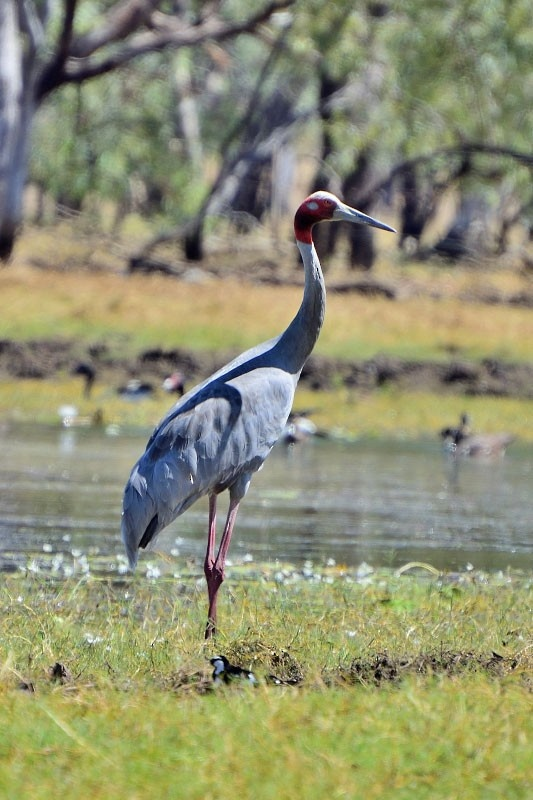crane: (115, 181, 402, 653)
